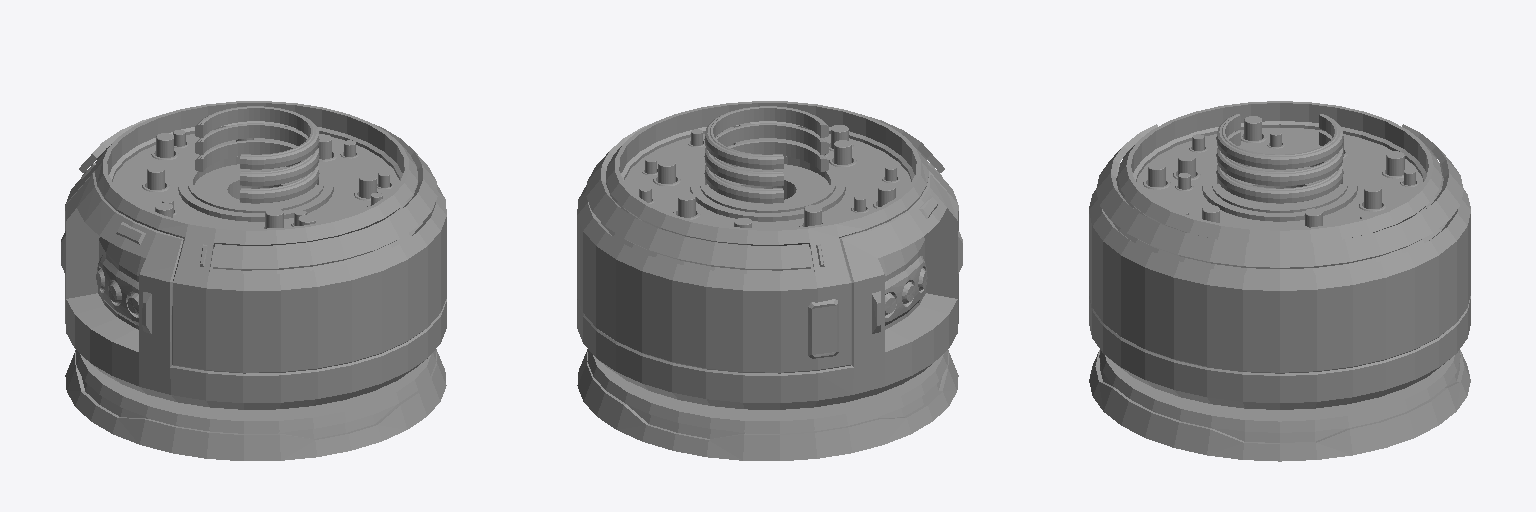
Rendered from Portal_Battery_Charger.obj.
3 views of the same model, side by side, from view 1: azimuth 30°, elevation 25°; view 2: azimuth 150°, elevation 25°; view 3: azimuth 270°, elevation 25° (orthographic).
Visible parts, largest first — view 1: Core_low_Mesh.001, Rings_low_Mesh, Cilinders_Mesh.002; view 2: Core_low_Mesh.001, Rings_low_Mesh, Cilinders_Mesh.002; view 3: Core_low_Mesh.001, Rings_low_Mesh, Cilinders_Mesh.002.
Part boxes in pixels (x1,y1,x2,y2): Core_low_Mesh.001: (61,101,446,460); Rings_low_Mesh: (195,106,319,203); Cilinders_Mesh.002: (142,125,393,228); Core_low_Mesh.001: (577,101,962,460); Rings_low_Mesh: (704,106,828,203); Cilinders_Mesh.002: (639,123,899,227); Core_low_Mesh.001: (1089,101,1470,461); Rings_low_Mesh: (1216,114,1343,203); Cilinders_Mesh.002: (1143,116,1418,227).
Size of the model in its own units: 1.29 by 0.9293 by 1.29.